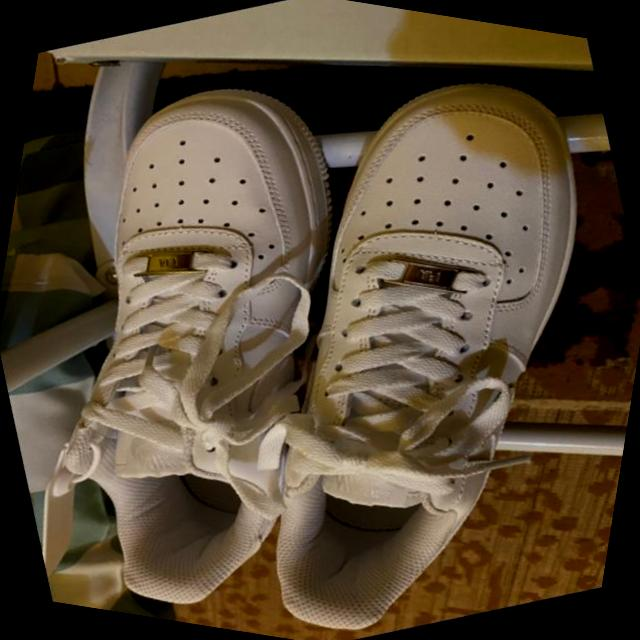nike_original_airforce: (95, 0, 640, 640), (0, 26, 484, 640)
